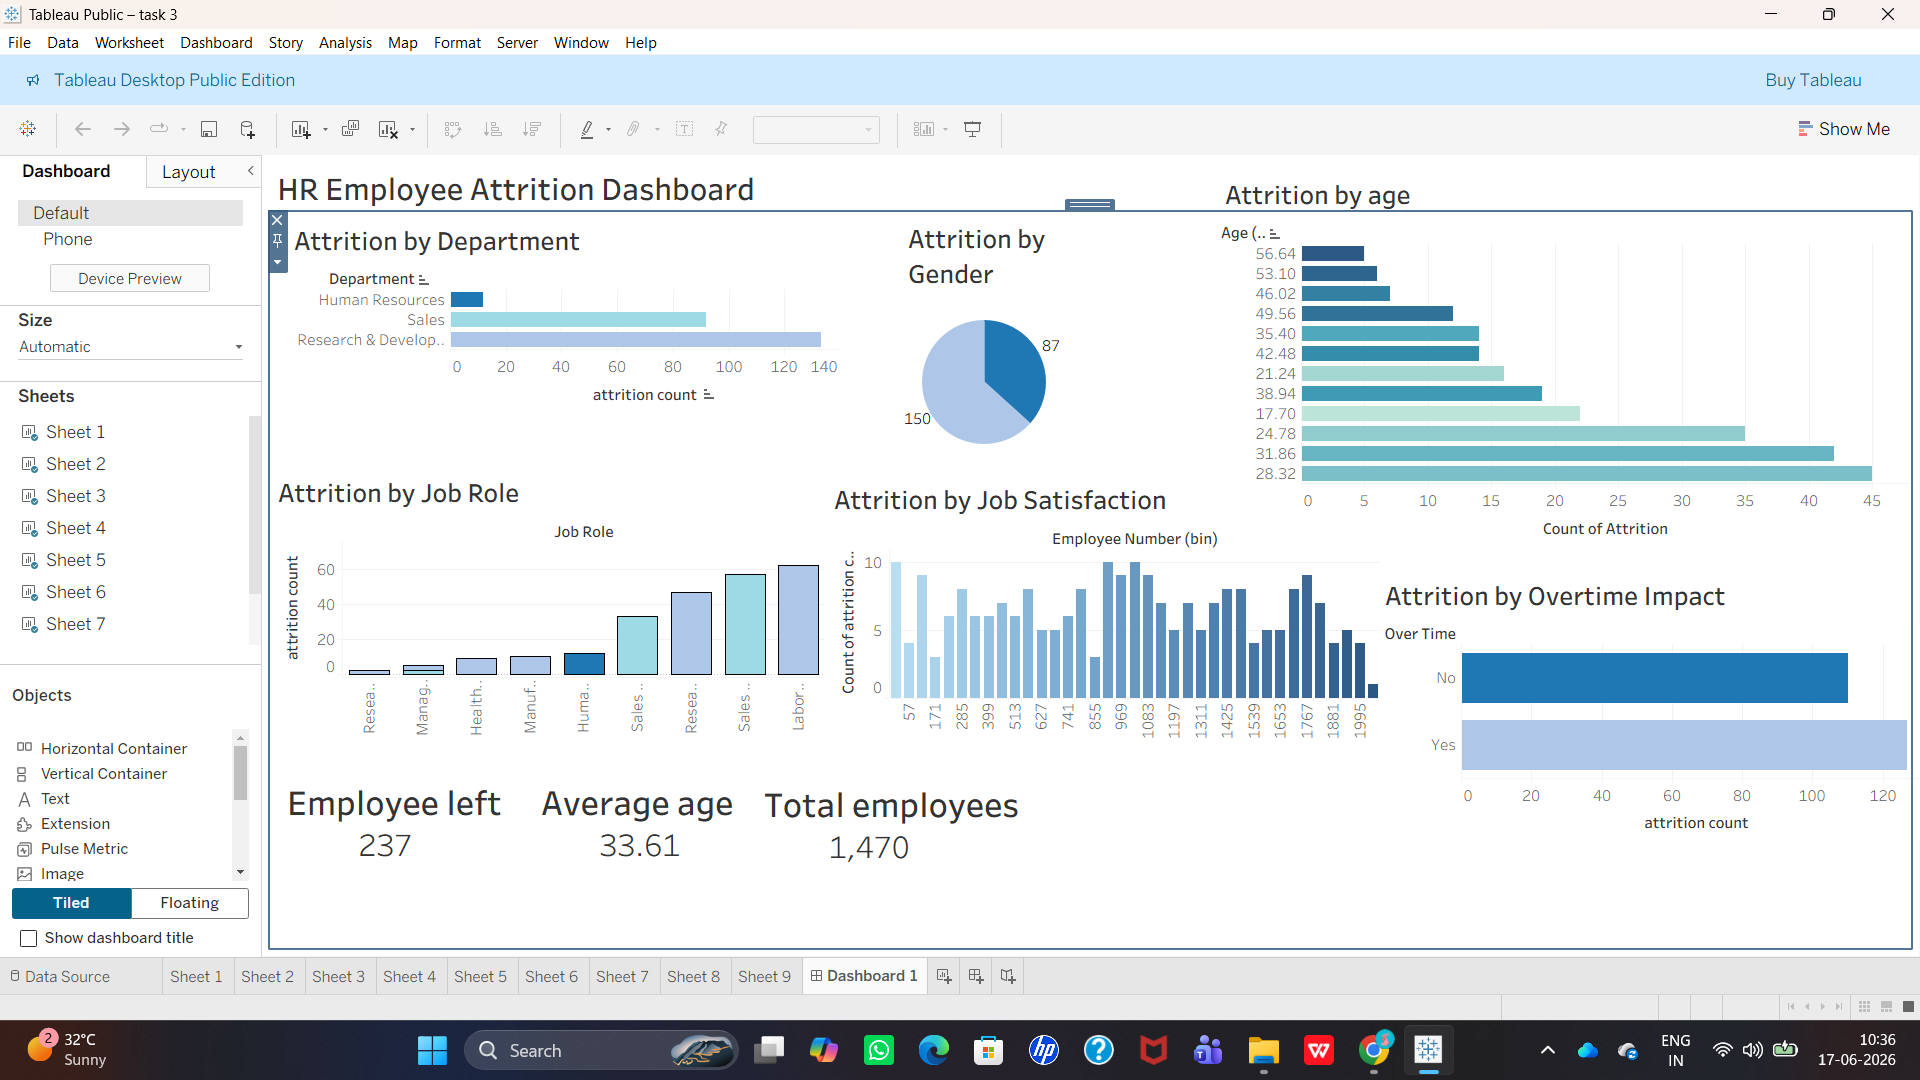

Layout of this report page (visuals, bound fields, positions):
{"tool":"tableau","page":{"name":"Dashboard 1","canvas":[1000,1000],"units":"permille","ordinal":0},"visuals":[{"type":"title","box":[4.8,10,990.3,61.2]},{"type":"worksheet","title":"Sheet 6","mark":"Automatic","rows":["Age (bin)"],"cols":["Attrition"],"box":[578.8,22.5,415.8,519.4]},{"type":"worksheet","title":"Sheet 2","mark":"Pie","box":[387.4,77.4,148.5,307.1]},{"type":"worksheet","title":"Sheet 1","mark":"Automatic","rows":["Department"],"cols":["Calculation_1309703078357098496"],"box":[16.9,79.9,331.9,298.4]},{"type":"worksheet","title":"Sheet 3","mark":"Automatic","rows":["Calculation_1309703078357098496"],"cols":["JobRole"],"box":[7.2,394.5,332.5,332.1]},{"type":"worksheet","title":"Sheet 5","mark":"Automatic","rows":["Calculation_1309703078357098496"],"cols":["Employee Number (bin)"],"box":[342.8,403.2,331.9,349.6]},{"type":"worksheet","title":"Sheet 7","mark":"Automatic","box":[12.7,779,152.7,118.6]},{"type":"worksheet","title":"Sheet 8","mark":"Automatic","box":[166,779,170.8,157.3]},{"type":"worksheet","title":"Sheet 9","mark":"Automatic","box":[300.5,781.5,180.5,144.8]}]}

Visuals, with their boxes on the dashboard's canvas, which has no fixed pixel size, in thousandths of its width and height (x1, y1, x2, y2). These are canvas units, not pixel positions in the 1920x1080 screenshot, which may show the page scaled, cropped or inside an application window:
title: rect(5, 10, 995, 71)
"Sheet 6" worksheet: rect(579, 22, 995, 542)
"Sheet 2" worksheet (Pie marks): rect(387, 77, 536, 384)
"Sheet 1" worksheet: rect(17, 80, 349, 378)
"Sheet 3" worksheet: rect(7, 394, 340, 727)
"Sheet 5" worksheet: rect(343, 403, 675, 753)
"Sheet 7" worksheet: rect(13, 779, 165, 898)
"Sheet 8" worksheet: rect(166, 779, 337, 936)
"Sheet 9" worksheet: rect(300, 782, 481, 926)
